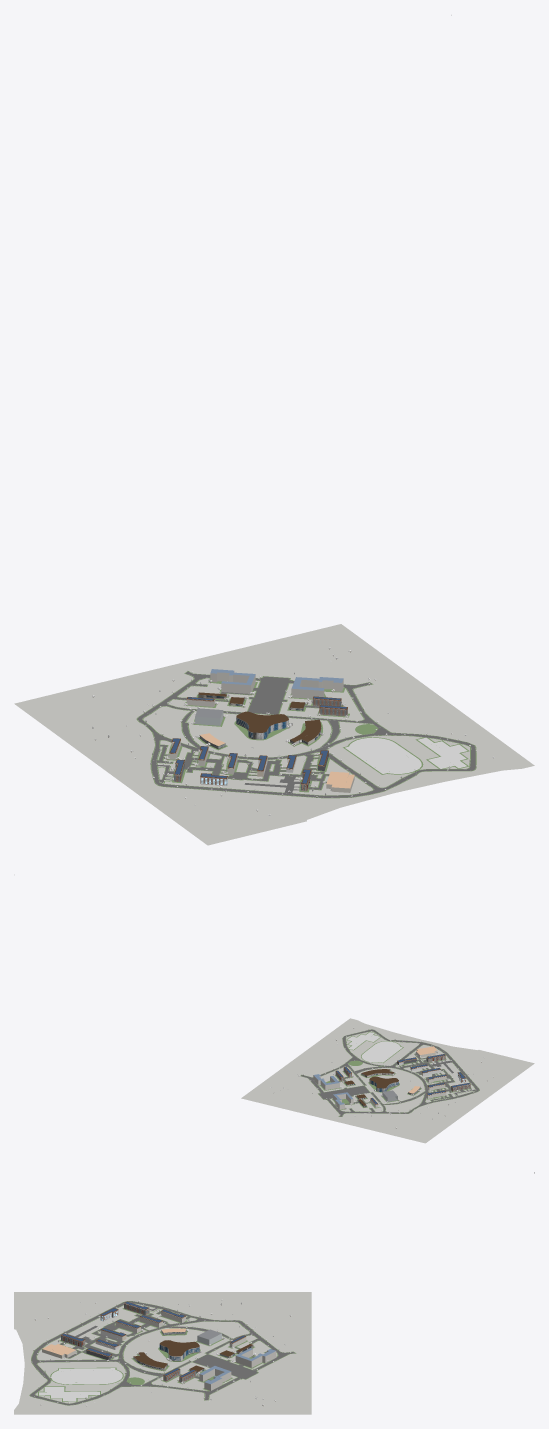
The model's file is hnjcxy_baked_v3prev_bak.glb.
3 views of the same model, one above another, from view 1: azimuth 30°, elevation 25°; view 2: azimuth 150°, elevation 25°; view 3: azimuth 270°, elevation 25° (orthographic). The views are drawn at different scales.
Parts seen in each view (by area): view 1: Ground_Base, Green_Accents, 47, 27, 11; view 2: Ground_Base, Green_Accents, 47, 27; view 3: Ground_Base, Green_Accents, 47, 27, 11, 46, 52, 44, 45, 22, 24, Curb_MainRoads (+1 smaller).
Part boxes in pixels (<box>): Ground_Base: <box>14,624,534,845</box>; Green_Accents: <box>136,671,476,798</box>; 47: <box>151,727,406,797</box>; 27: <box>354,740,415,771</box>; 11: <box>236,711,288,739</box>; Ground_Base: <box>241,1018,534,1143</box>; Green_Accents: <box>300,1029,479,1116</box>; 47: <box>349,1040,479,1098</box>; 27: <box>365,1043,397,1061</box>; Ground_Base: <box>14,1292,311,1414</box>; Green_Accents: <box>29,1301,296,1405</box>; 47: <box>31,1301,168,1387</box>; 27: <box>55,1370,118,1382</box>; 11: <box>159,1340,199,1361</box>; 46: <box>119,1309,246,1358</box>; 52: <box>197,1356,257,1379</box>; 44: <box>206,1325,294,1370</box>; 45: <box>133,1361,239,1399</box>; 22: <box>235,1348,262,1367</box>; 24: <box>199,1366,231,1382</box>; Curb_MainRoads: <box>30,1301,293,1405</box>.
Size of the model in its own units: 1391 by 1003 by 1401.
Materials: 157 (76 with a texture image).
